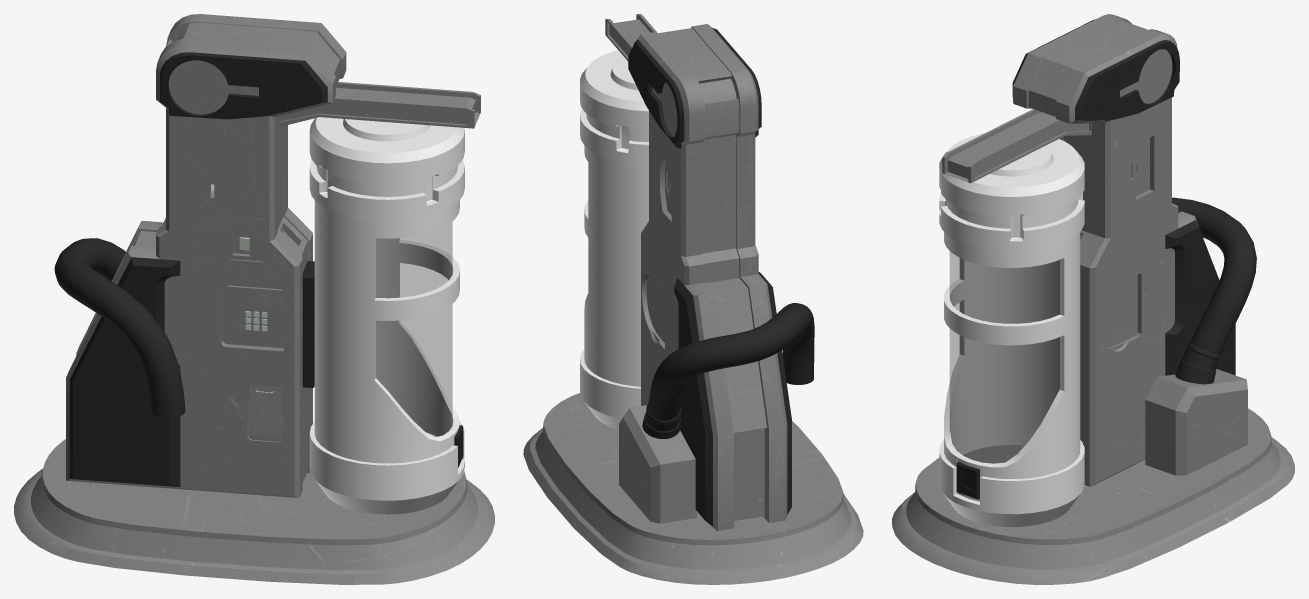
3 views of the same model, side by side, from view 1: azimuth 30°, elevation 25°; view 2: azimuth 150°, elevation 25°; view 3: azimuth 270°, elevation 25° (orthographic). The views are drawn at different scales.
Visible parts, largest first — view 1: StaticMeshActor_50_StaticMeshComponent0, StaticMeshActor_16_StaticMeshComponent0, StaticMeshActor_49_StaticMeshComponent0, StaticMeshActor_17_StaticMeshComponent0, StaticMeshActor_26_StaticMeshComponent0; view 2: StaticMeshActor_50_StaticMeshComponent0, StaticMeshActor_16_StaticMeshComponent0, StaticMeshActor_26_StaticMeshComponent0, StaticMeshActor_49_StaticMeshComponent0; view 3: StaticMeshActor_50_StaticMeshComponent0, StaticMeshActor_16_StaticMeshComponent0, StaticMeshActor_17_StaticMeshComponent0, StaticMeshActor_49_StaticMeshComponent0, StaticMeshActor_26_StaticMeshComponent0.
Part boxes in pixels (left/top/right/bottom): StaticMeshActor_50_StaticMeshComponent0: left=14, top=14, right=494, bottom=584; StaticMeshActor_16_StaticMeshComponent0: left=309, top=117, right=464, bottom=514; StaticMeshActor_49_StaticMeshComponent0: left=69, top=52, right=327, bottom=487; StaticMeshActor_17_StaticMeshComponent0: left=376, top=222, right=452, bottom=436; StaticMeshActor_26_StaticMeshComponent0: left=54, top=238, right=463, bottom=467; StaticMeshActor_50_StaticMeshComponent0: left=523, top=14, right=863, bottom=584; StaticMeshActor_16_StaticMeshComponent0: left=580, top=50, right=648, bottom=429; StaticMeshActor_26_StaticMeshComponent0: left=642, top=303, right=814, bottom=438; StaticMeshActor_49_StaticMeshComponent0: left=628, top=28, right=791, bottom=526; StaticMeshActor_50_StaticMeshComponent0: left=892, top=14, right=1294, bottom=584; StaticMeshActor_16_StaticMeshComponent0: left=939, top=133, right=1084, bottom=526; StaticMeshActor_17_StaticMeshComponent0: left=950, top=252, right=1059, bottom=463; StaticMeshActor_49_StaticMeshComponent0: left=1012, top=19, right=1235, bottom=375; StaticMeshActor_26_StaticMeshComponent0: left=956, top=197, right=1256, bottom=499.
Bounding box in the file's own units: 5.75 × 6.76 × 5.47.
Materials: 5 (3 with a texture image).
